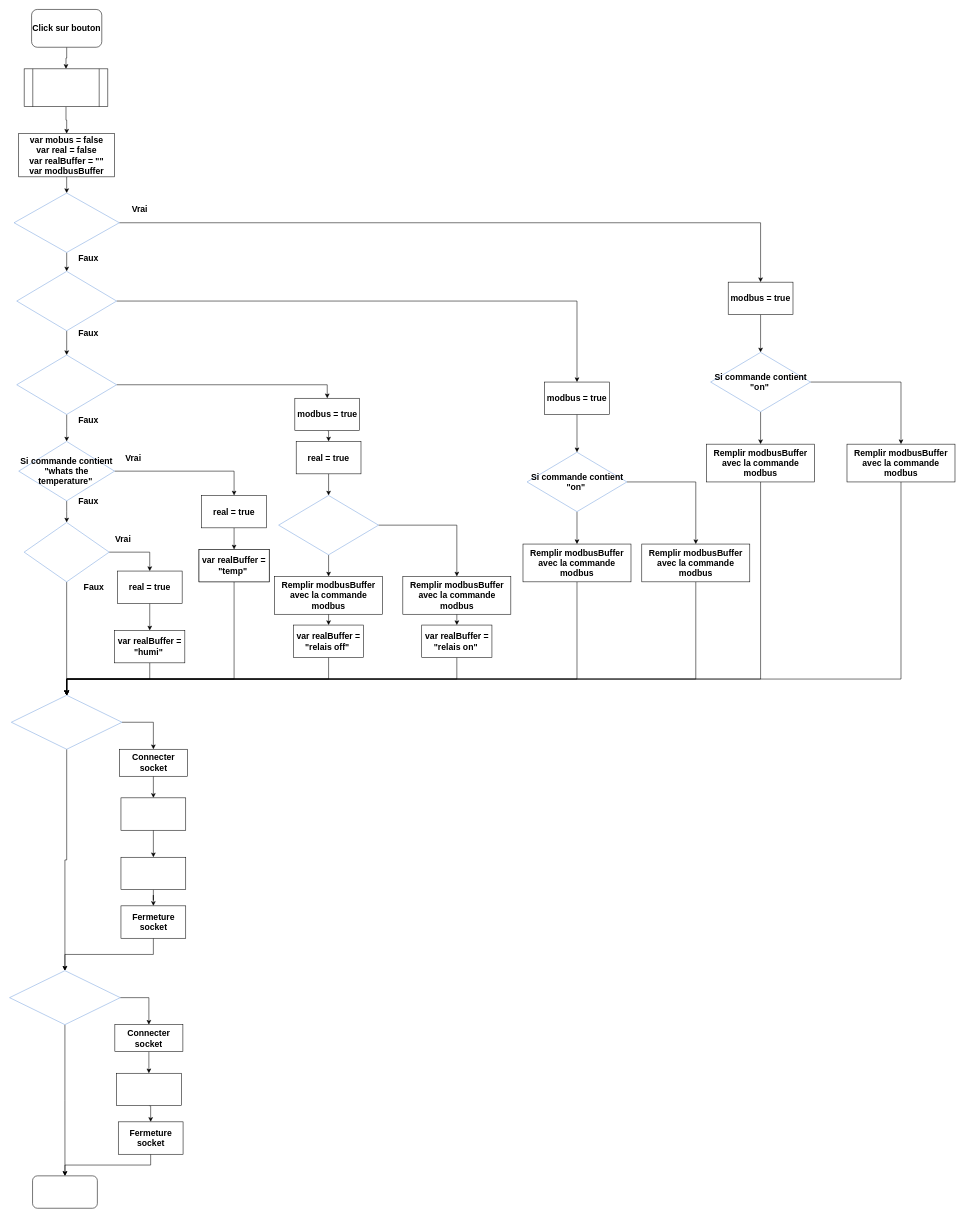
Image size: 964x1218. Some labels were removed from this diagram. The shapes that lost their labels are listed below. From the top down, each one's centre as x and y in pixels, then its label:
pixel 66 87: Création d'une thread
pixel 66 222: Si commande contient "switch light"
pixel 66 301: Si commande contient "switch radiator"
pixel 66 384: Si commande contient "windows blinds"
pixel 328 525: Si commande contient "open"
pixel 66 552: Si commande contient "whats the humidity"
pixel 66 722: Si real == true
pixel 153 813: Envoyer realBuffer à la RPI
pixel 153 873: Reception message
pixel 64 997: Si modbus == true
pixel 148 1089: Envoyer modbusBuffer à la ConnectIO
pixel 64 1191: Fermeture thread
